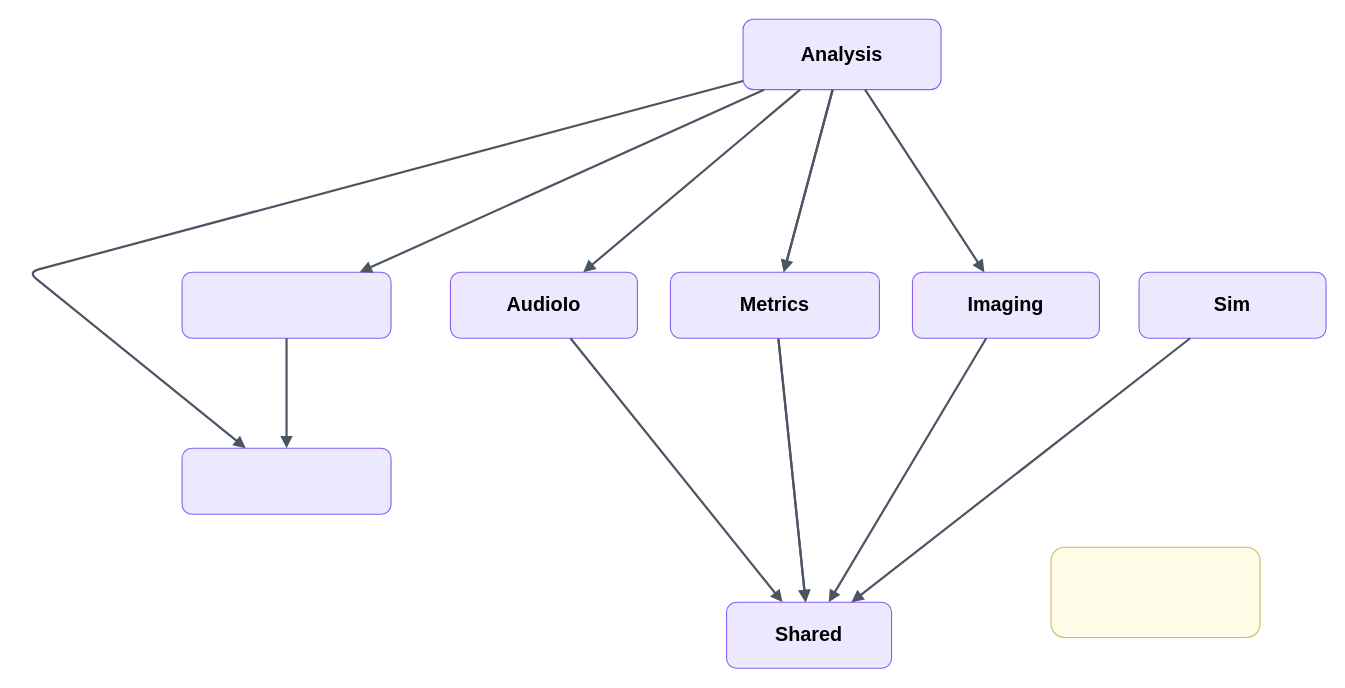
This 1345x688 diagram has some shape labels left out. Here are the shapes that lost their labels. From the top down, the box of each, then its label:
(181, 271, 391, 338): Detection.Scoring
(181, 447, 391, 514): Detection
(1050, 546, 1260, 637): Legend A → B : A가 B를 사용
